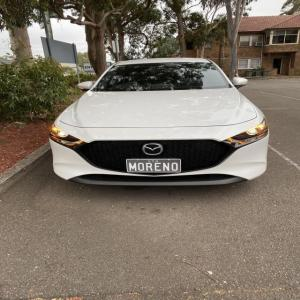Plate: (126, 159, 181, 173)
